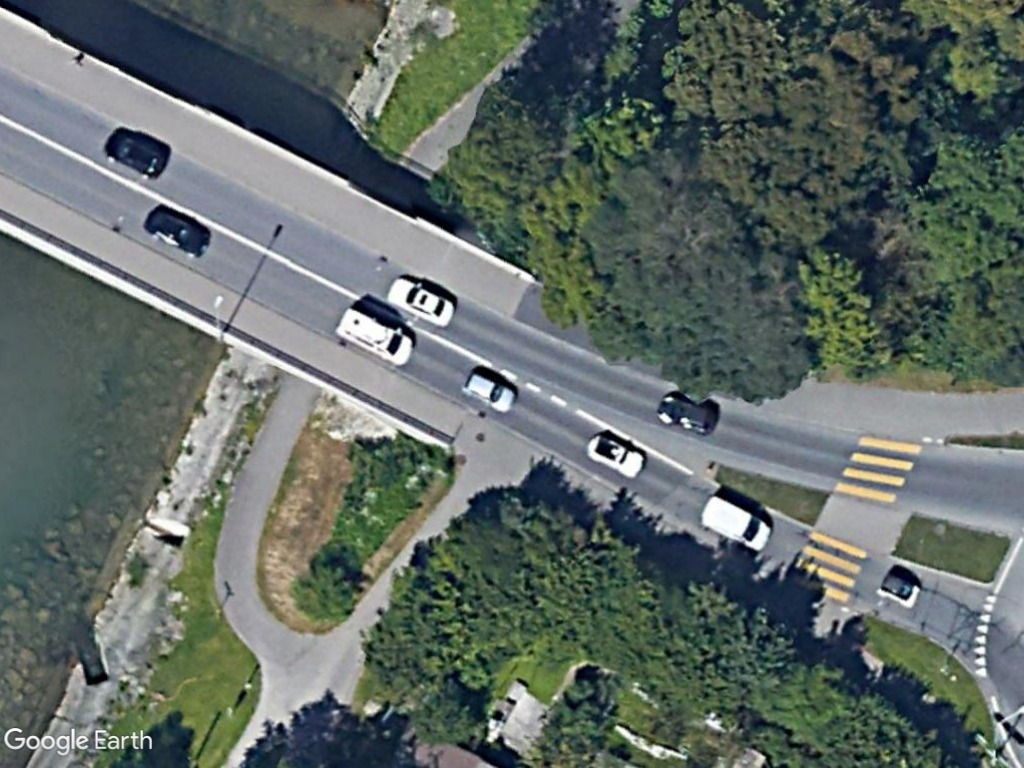car: (385, 274, 457, 330), (582, 430, 649, 482), (457, 368, 517, 414)
van: (332, 306, 414, 370), (697, 491, 774, 553)
